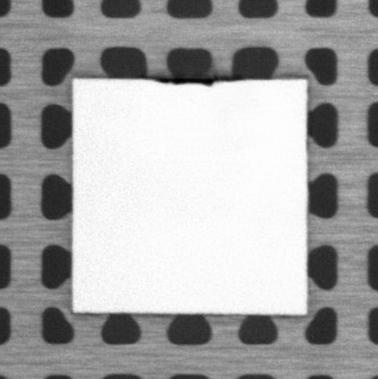DIE_BROKEN: (152, 75, 218, 88)
